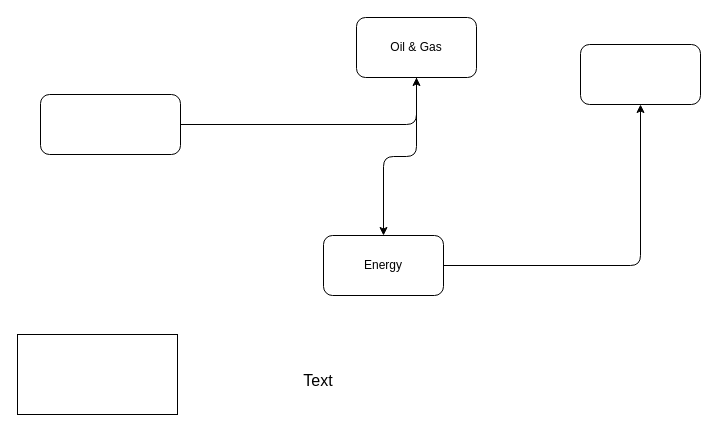
Image size: 718x432. Some labels were removed from this diagram. Here are the shapes that lost their labels. From the top down, the centre of each, then its label:
At (x=640, y=74): "Chemicals".
At (x=110, y=124): "ExxonMobil".
